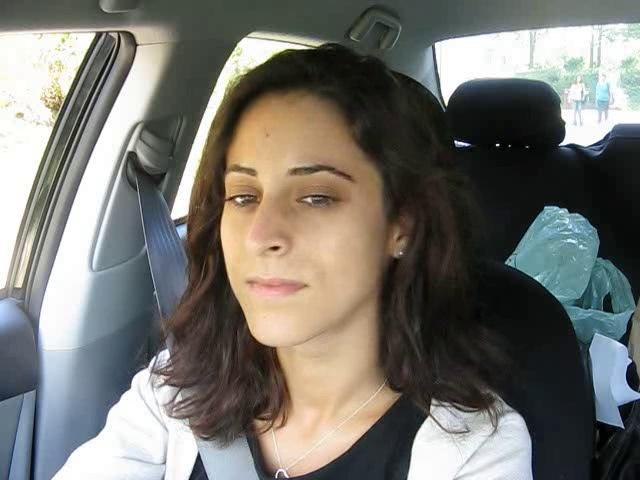no_yawn: (223, 265, 323, 309)
open_eyeL: (221, 183, 266, 217)
open_eyeR: (283, 182, 349, 220)
